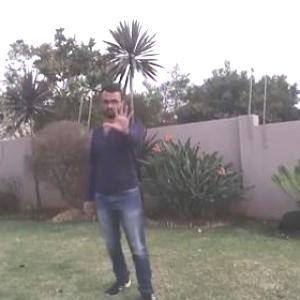follow_hand: (102, 100, 137, 138)
